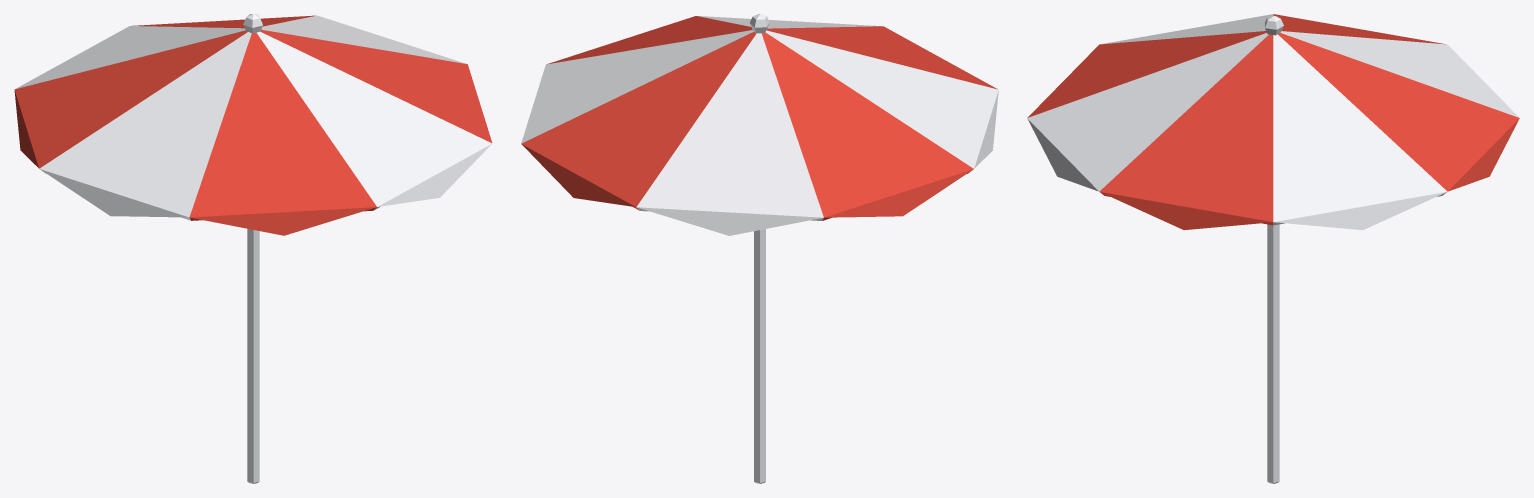
Rendered from umbrella.glb.
The picture shows the model from 3 angles, left to right: view 1: azimuth 30°, elevation 25°; view 2: azimuth 150°, elevation 25°; view 3: azimuth 270°, elevation 25°; orthographic projection.
Visible parts, largest first — view 1: umbrella-m; view 2: umbrella-m; view 3: umbrella-m.
Part boxes in pixels (x1,y1,x2,y2): umbrella-m: (14, 14, 492, 483); umbrella-m: (521, 14, 998, 483); umbrella-m: (1027, 14, 1519, 483).
Size of the model in its own units: 2.8 by 2.92 by 2.8.
